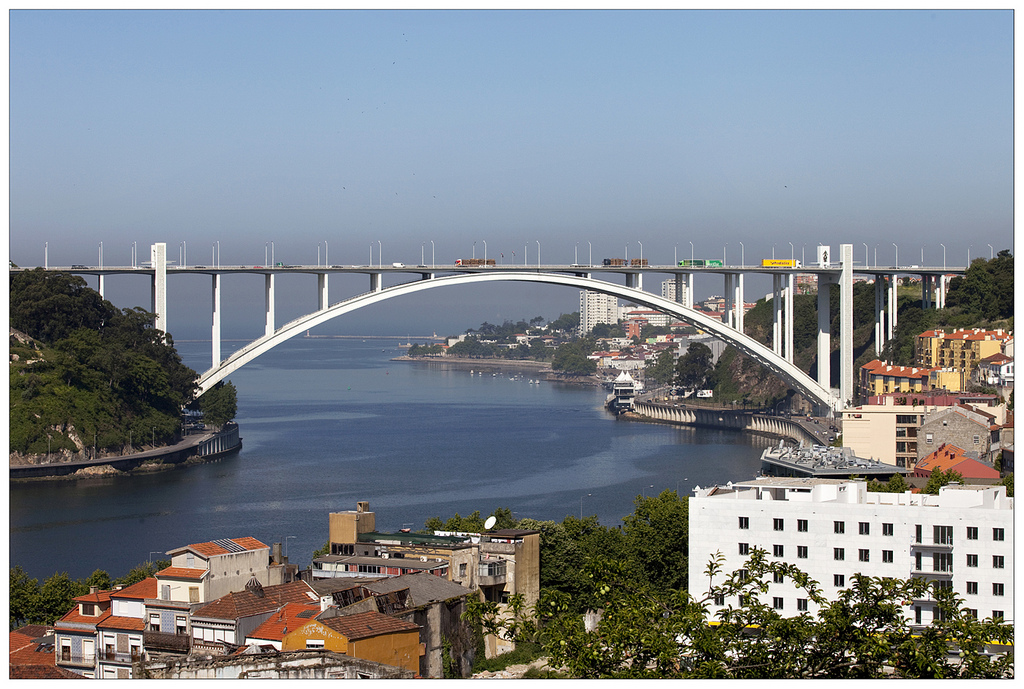arrabida: (10, 241, 973, 416)
